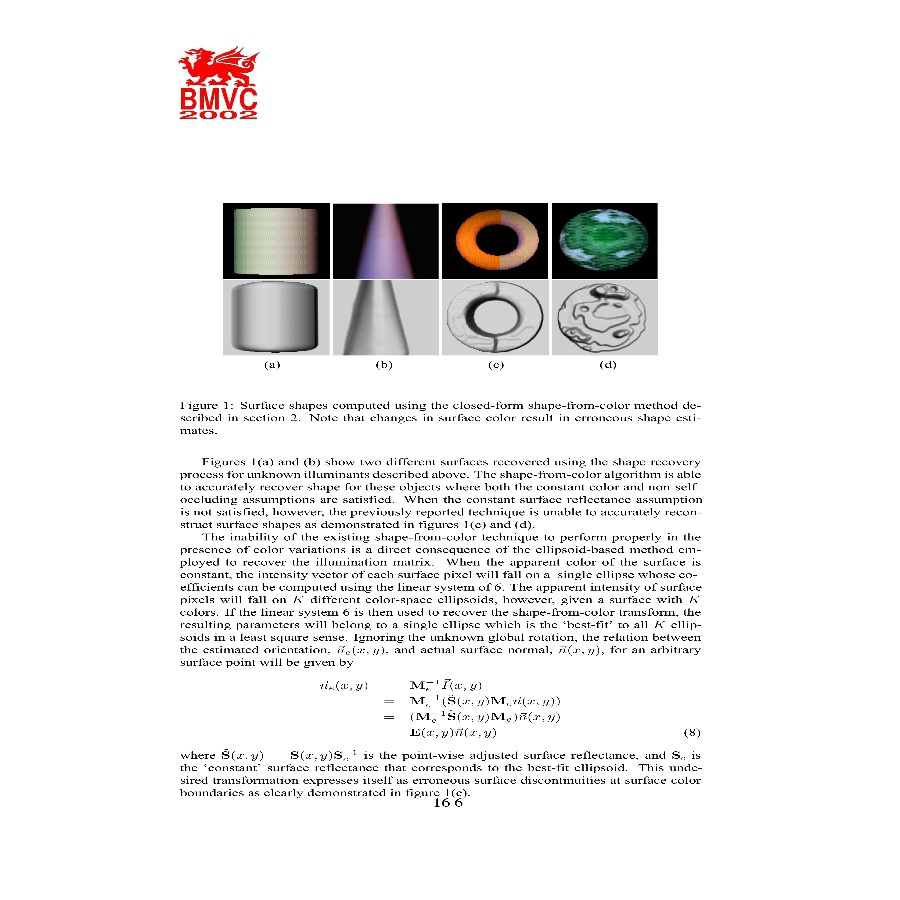eq: (318, 676, 571, 741)
